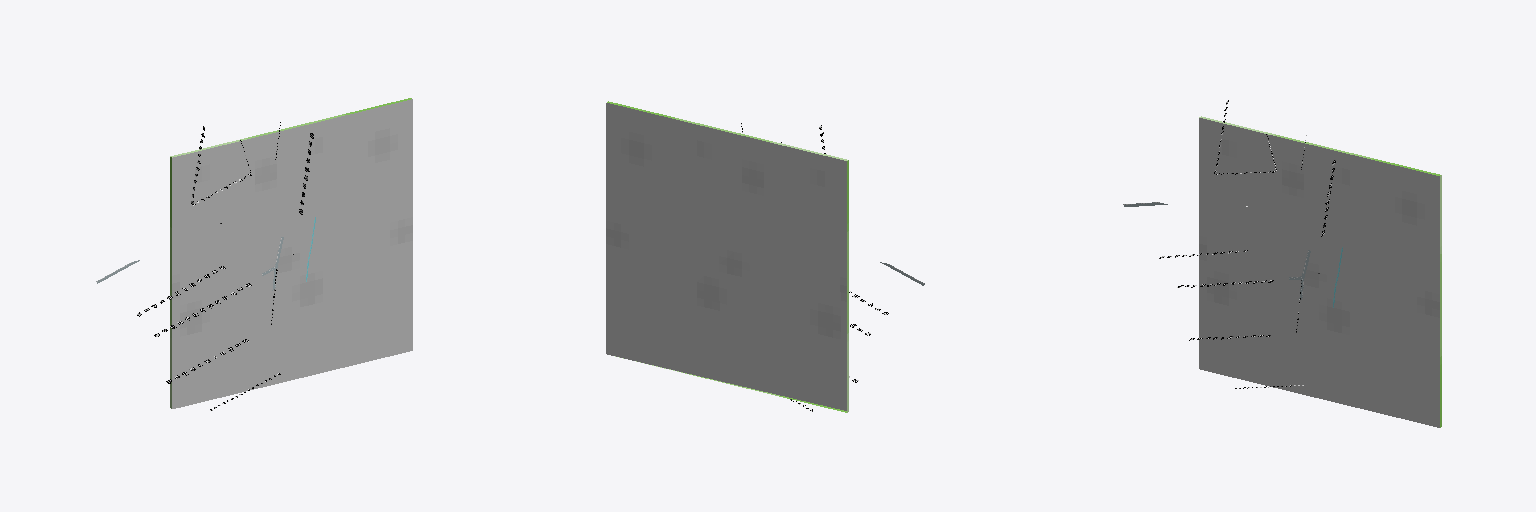
3 renders of one model, left to right at view 1: azimuth 30°, elevation 25°; view 2: azimuth 150°, elevation 25°; view 3: azimuth 330°, elevation 25°, orthographic.
Parts seen in each view (by area): view 1: POLYGON, FONT; view 2: POLYGON; view 3: POLYGON, FONT.
Part boxes in pixels (bbox=[...]): POLYGON: bbox=[170, 98, 412, 408]; FONT: bbox=[137, 122, 313, 410]; POLYGON: bbox=[606, 101, 848, 412]; POLYGON: bbox=[1199, 116, 1441, 427]; FONT: bbox=[1159, 100, 1335, 388].
Bounding box in the file's own units: 804 × 699 × 29.
Materials: 4 (4 with a texture image).